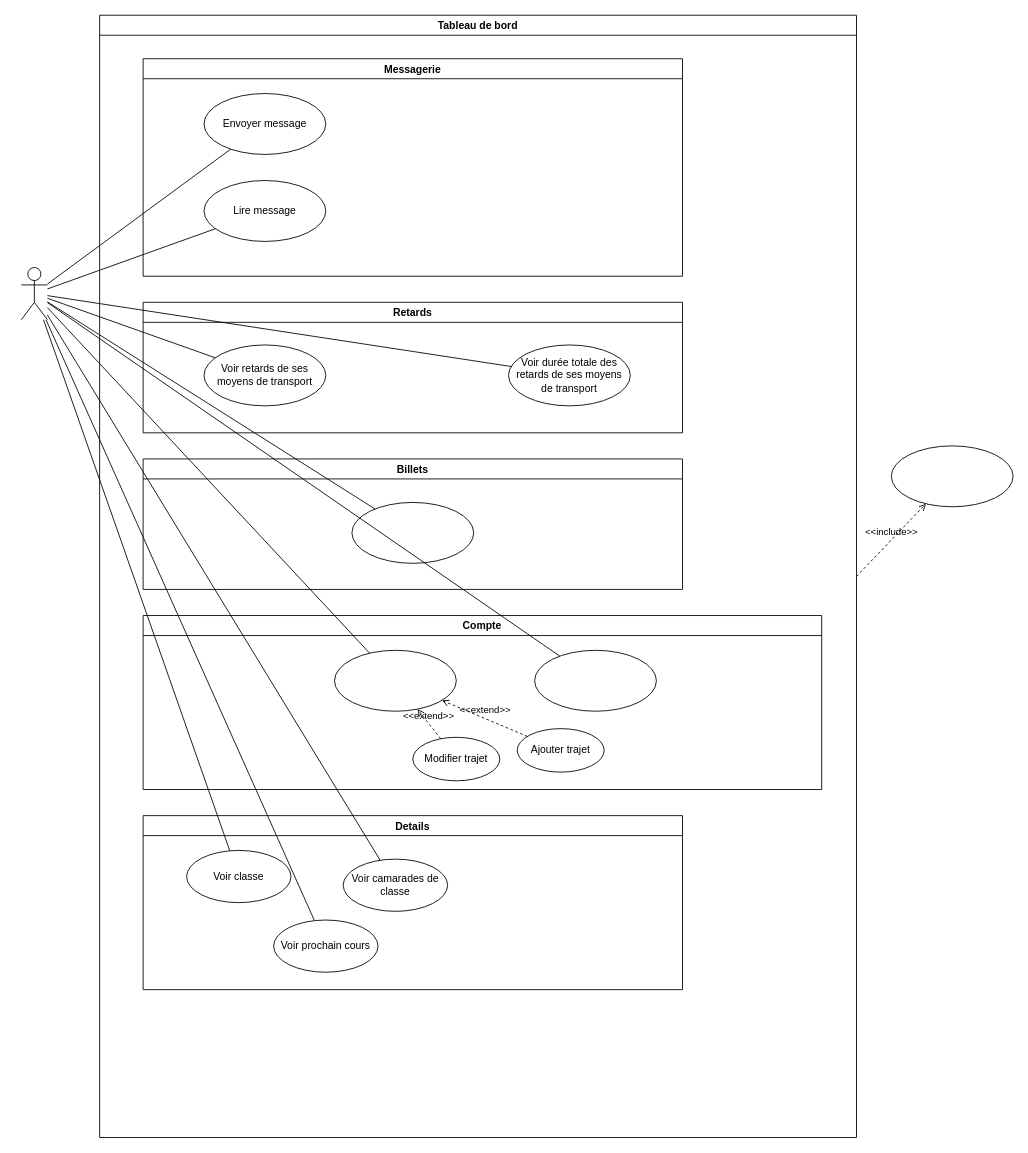
This 1028x1153 diagram has some shape labels left out. The centre of each missing label's shape, as x and y in pixels:
"Consulter ses billets" goes at (412,532).
"Etudiant" goes at (33,293).
"Gerer trajet" goes at (395,680).
"S'authentifier" goes at (951,476).
"Se déconnecter" goes at (595,680).
